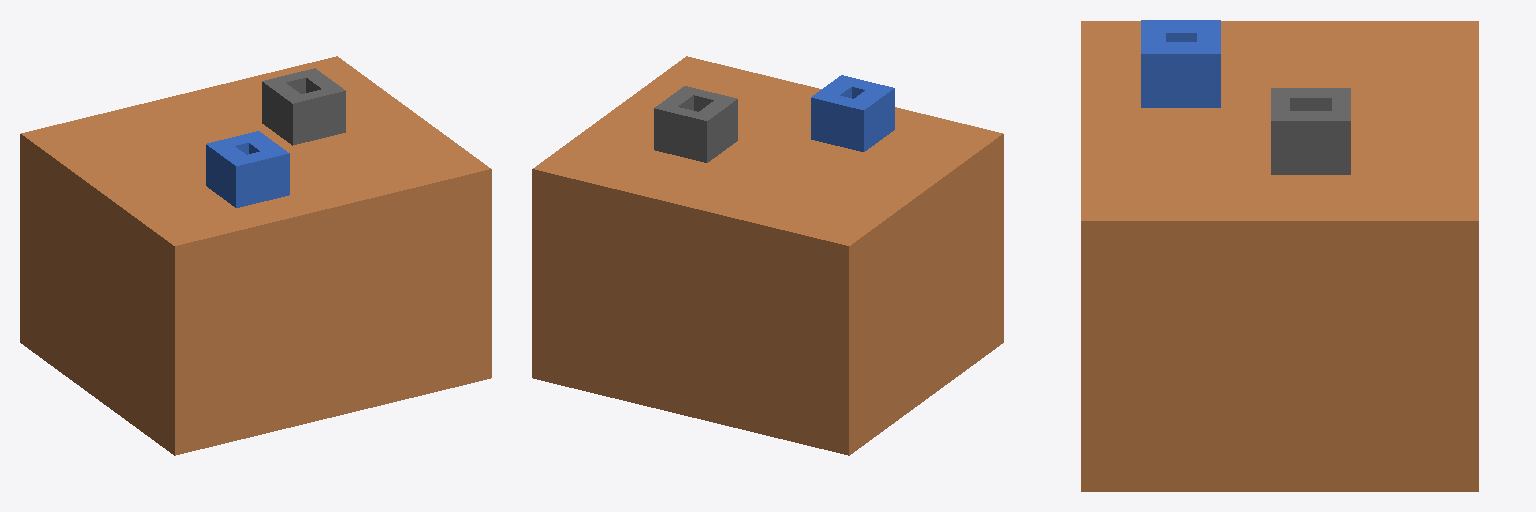
robot.urdf — peg_in_hole_fixtured_scene_0010_peg0005_tol03:
<?xml version="1.0"?>
<robot name="peg_in_hole_fixtured_scene_0010_peg0005_tol03">
  <material name="wood"><color rgba="0.82 0.56 0.35 1.0"/></material>
  <material name="start_fix"><color rgba="0.30 0.50 0.85 1.0"/></material>
  <material name="goal_fix"><color rgba="0.4706 0.4706 0.4706 1.0"/></material>
  <link name="box">
    <visual>
      <origin xyz="0.000000 0.000000 0.000000" rpy="0 0 0"/>
      <geometry><box size="0.475000 0.400000 0.300000"/></geometry>
      <material name="wood"/>
    </visual>
    <collision>
      <origin xyz="0.000000 0.000000 0.000000" rpy="0 0 0"/>
      <geometry><box size="0.475000 0.400000 0.300000"/></geometry>
    </collision>
    <visual>
      <origin xyz="-0.069745 -0.099111 0.155000" rpy="0 0 0"/>
      <geometry><box size="0.080000 0.080000 0.010000"/></geometry>
      <material name="start_fix"/>
    </visual>
    <collision>
      <origin xyz="-0.069745 -0.099111 0.155000" rpy="0 0 0"/>
      <geometry><box size="0.080000 0.080000 0.010000"/></geometry>
    </collision>
    <visual>
      <origin xyz="-0.044495 -0.099111 0.185000" rpy="0 0 0"/>
      <geometry><box size="0.029500 0.080000 0.050000"/></geometry>
      <material name="start_fix"/>
    </visual>
    <collision>
      <origin xyz="-0.044495 -0.099111 0.185000" rpy="0 0 0"/>
      <geometry><box size="0.029500 0.080000 0.050000"/></geometry>
    </collision>
    <visual>
      <origin xyz="-0.094995 -0.099111 0.185000" rpy="0 0 0"/>
      <geometry><box size="0.029500 0.080000 0.050000"/></geometry>
      <material name="start_fix"/>
    </visual>
    <collision>
      <origin xyz="-0.094995 -0.099111 0.185000" rpy="0 0 0"/>
      <geometry><box size="0.029500 0.080000 0.050000"/></geometry>
    </collision>
    <visual>
      <origin xyz="-0.069745 -0.071361 0.185000" rpy="0 0 0"/>
      <geometry><box size="0.021000 0.024500 0.050000"/></geometry>
      <material name="start_fix"/>
    </visual>
    <collision>
      <origin xyz="-0.069745 -0.071361 0.185000" rpy="0 0 0"/>
      <geometry><box size="0.021000 0.024500 0.050000"/></geometry>
    </collision>
    <visual>
      <origin xyz="-0.069745 -0.126861 0.185000" rpy="0 0 0"/>
      <geometry><box size="0.021000 0.024500 0.050000"/></geometry>
      <material name="start_fix"/>
    </visual>
    <collision>
      <origin xyz="-0.069745 -0.126861 0.185000" rpy="0 0 0"/>
      <geometry><box size="0.021000 0.024500 0.050000"/></geometry>
    </collision>
    <visual>
      <origin xyz="0.089781 0.031189 0.155000" rpy="0 0 0"/>
      <geometry><box size="0.080000 0.080000 0.010000"/></geometry>
      <material name="goal_fix"/>
    </visual>
    <collision>
      <origin xyz="0.089781 0.031189 0.155000" rpy="0 0 0"/>
      <geometry><box size="0.080000 0.080000 0.010000"/></geometry>
    </collision>
    <visual>
      <origin xyz="0.117612 0.031189 0.185000" rpy="0 0 0"/>
      <geometry><box size="0.024338 0.080000 0.050000"/></geometry>
      <material name="goal_fix"/>
    </visual>
    <collision>
      <origin xyz="0.117612 0.031189 0.185000" rpy="0 0 0"/>
      <geometry><box size="0.024338 0.080000 0.050000"/></geometry>
    </collision>
    <visual>
      <origin xyz="0.061950 0.031189 0.185000" rpy="0 0 0"/>
      <geometry><box size="0.024338 0.080000 0.050000"/></geometry>
      <material name="goal_fix"/>
    </visual>
    <collision>
      <origin xyz="0.061950 0.031189 0.185000" rpy="0 0 0"/>
      <geometry><box size="0.024338 0.080000 0.050000"/></geometry>
    </collision>
    <visual>
      <origin xyz="0.089781 0.061520 0.185000" rpy="0 0 0"/>
      <geometry><box size="0.031324 0.019338 0.050000"/></geometry>
      <material name="goal_fix"/>
    </visual>
    <collision>
      <origin xyz="0.089781 0.061520 0.185000" rpy="0 0 0"/>
      <geometry><box size="0.031324 0.019338 0.050000"/></geometry>
    </collision>
    <visual>
      <origin xyz="0.089781 0.000858 0.185000" rpy="0 0 0"/>
      <geometry><box size="0.031324 0.019338 0.050000"/></geometry>
      <material name="goal_fix"/>
    </visual>
    <collision>
      <origin xyz="0.089781 0.000858 0.185000" rpy="0 0 0"/>
      <geometry><box size="0.031324 0.019338 0.050000"/></geometry>
    </collision>
    <inertial>
      <mass value="500"/>
      <friction value="1.0"/>
      <inertia ixx="1000.0" ixy="0.0" ixz="0.0" iyy="1000.0" iyz="0.0" izz="1000.0"/>
    </inertial>
  </link>
</robot>

--- What the picture shows (computed from the rendered views, not written in the file) ---
Views: 3 orthographic renders of the robot side by side, from view 1: azimuth 30°, elevation 25°; view 2: azimuth 150°, elevation 25°; view 3: azimuth 270°, elevation 25°.
Model peg_in_hole_fixtured_scene_0010_peg0005_tol03 with 1 links and 0 joints (none), rooted at box, posed every joint at zero.
Visible links, largest first — view 1: box; view 2: box; view 3: box.
Link boxes in pixels (<box>): box: <box>20,56,491,455</box>; box: <box>532,56,1003,455</box>; box: <box>1081,20,1478,491</box>.
Size in the robot's own frame: 0.475 by 0.4 by 0.36 metres.
Geometry: primitives only (box / cylinder / sphere), no mesh files.
